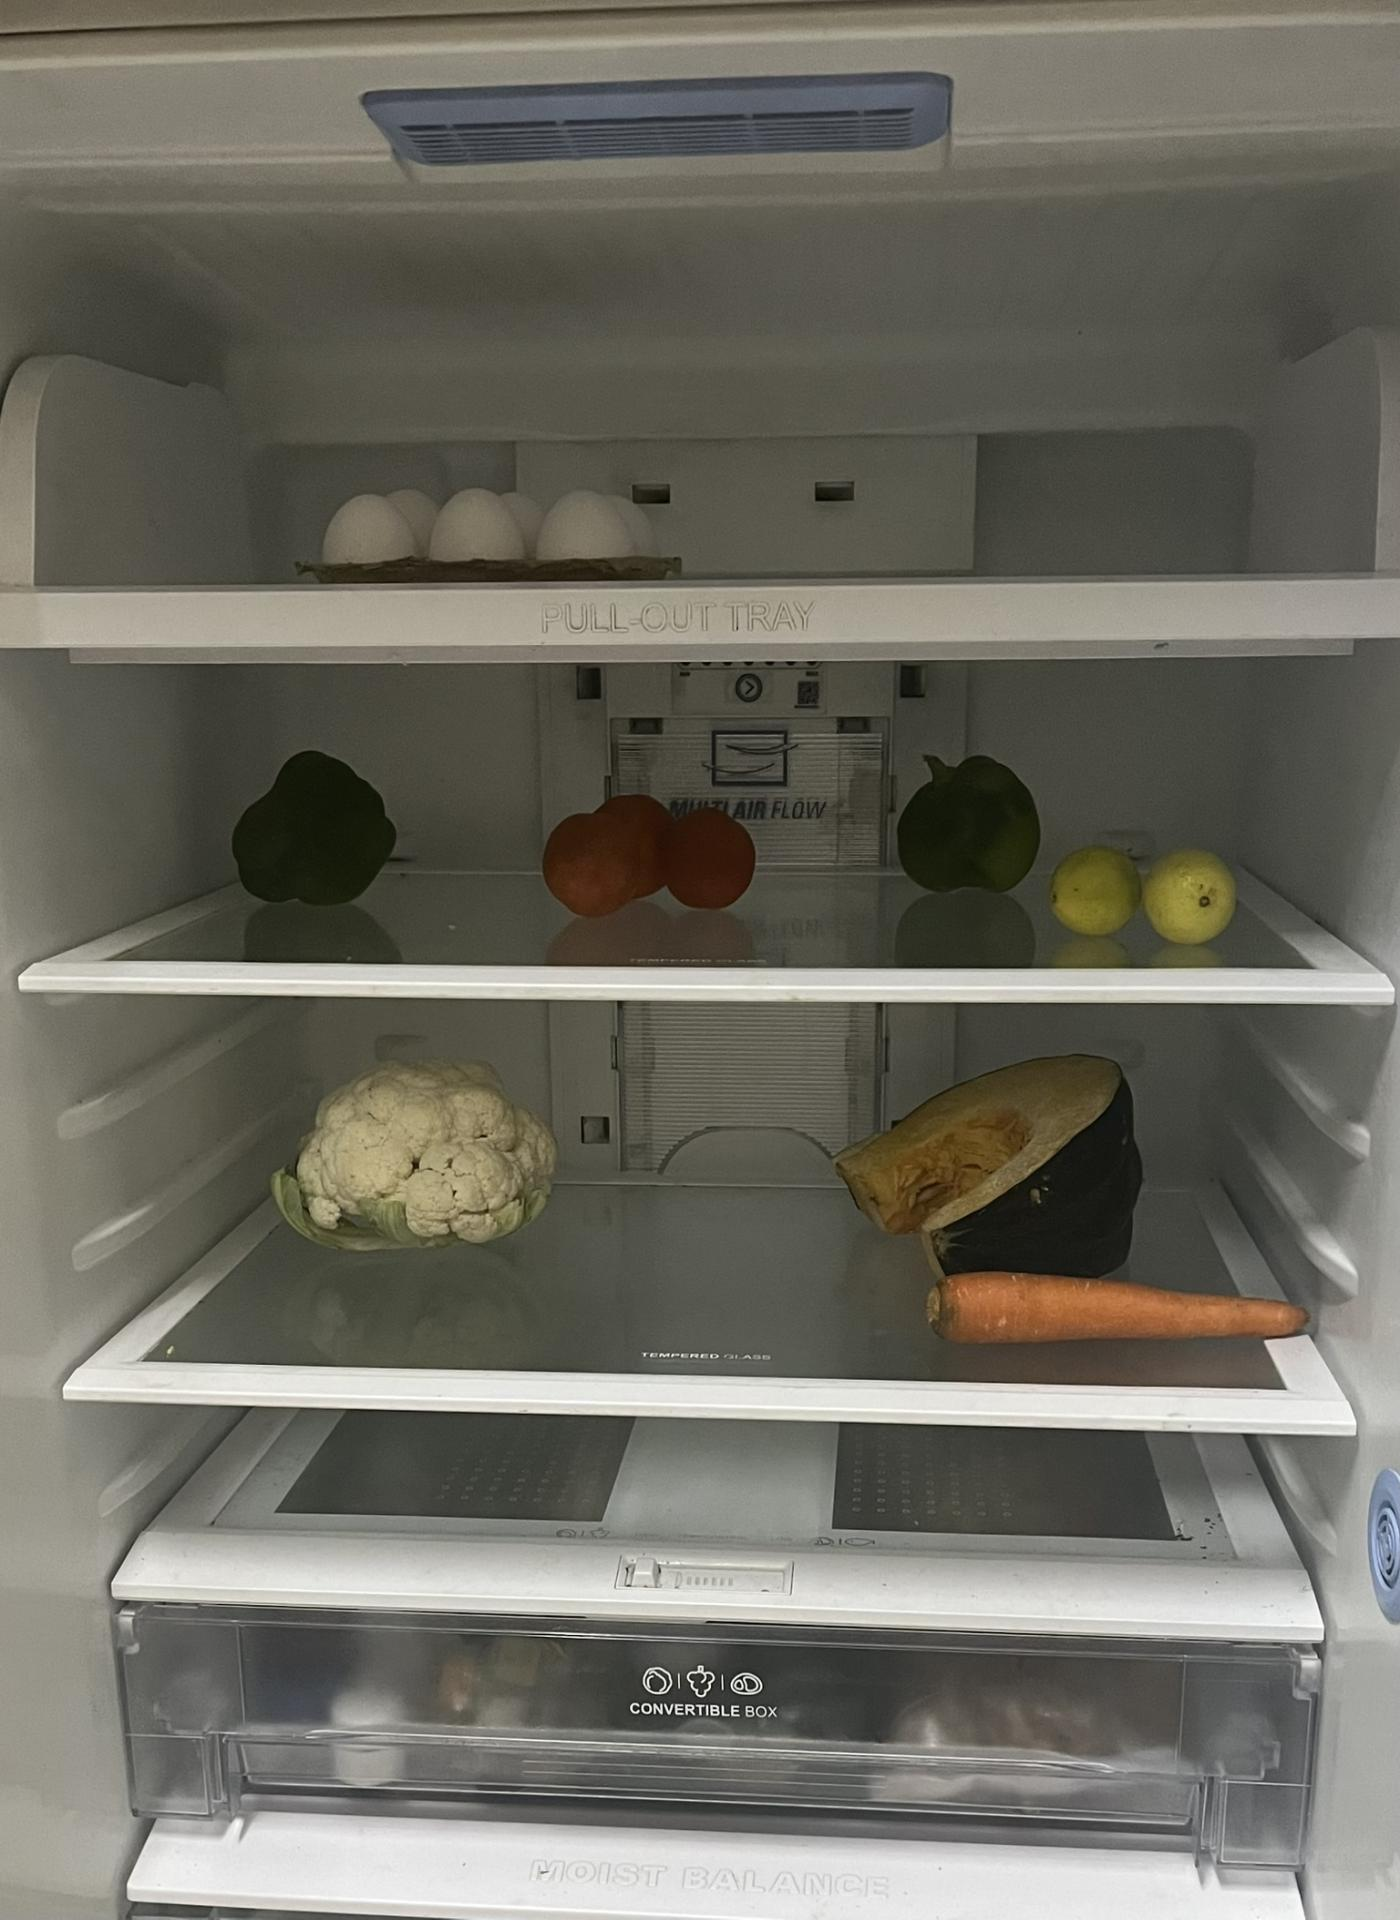capsicum: (228, 741, 401, 905), (898, 750, 1041, 893)
carrots: (932, 1269, 1287, 1340)
cauliflower: (271, 1060, 556, 1246)
egg: (321, 484, 665, 566)
lemon: (1048, 839, 1243, 941)
pumpkin: (832, 1045, 1148, 1248)
tomato: (540, 789, 753, 915)
